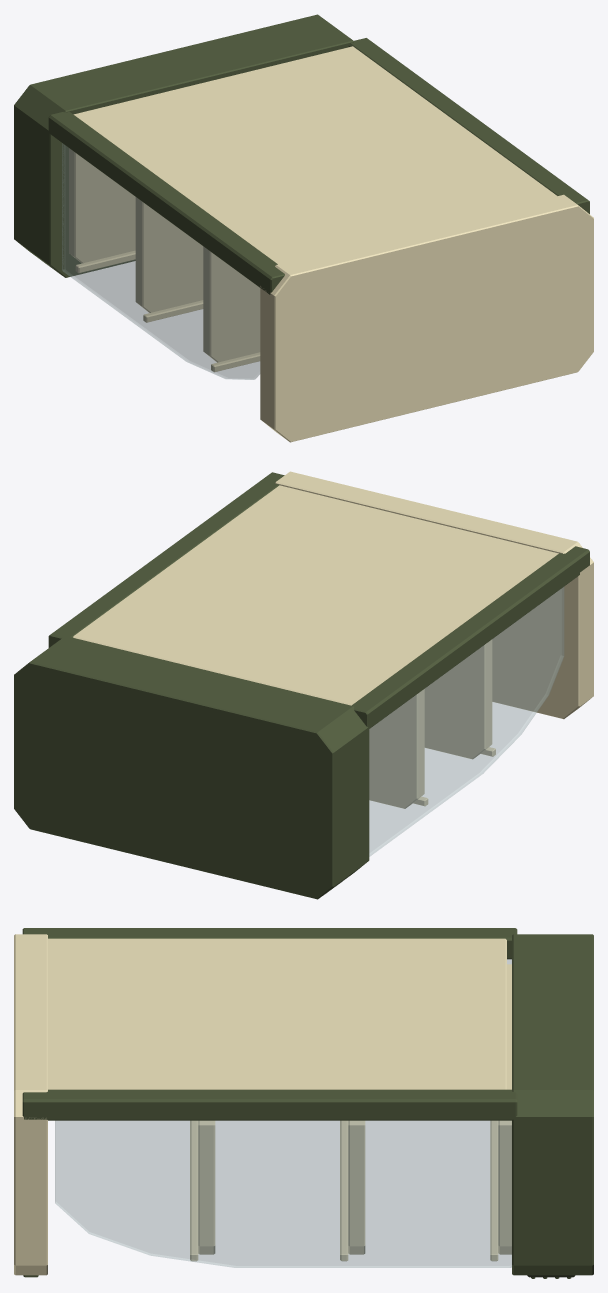
Rendered from fixture_07_chilled_display.glb.
3 views of the same model, one above another, from view 1: azimuth 30°, elevation 25°; view 2: azimuth 150°, elevation 25°; view 3: azimuth 270°, elevation 25° (orthographic). The views are drawn at different scales.
Visible parts, largest first — view 1: fixture_07_chilled_display; view 2: fixture_07_chilled_display; view 3: fixture_07_chilled_display.
Part boxes in pixels (left/top/right/bottom): fixture_07_chilled_display: left=14, top=14, right=593, bottom=442; fixture_07_chilled_display: left=14, top=471, right=593, bottom=899; fixture_07_chilled_display: left=14, top=928, right=593, bottom=1278.
Size of what is drawn, in the model's own units: 1.2 by 0.626 by 1.7.
